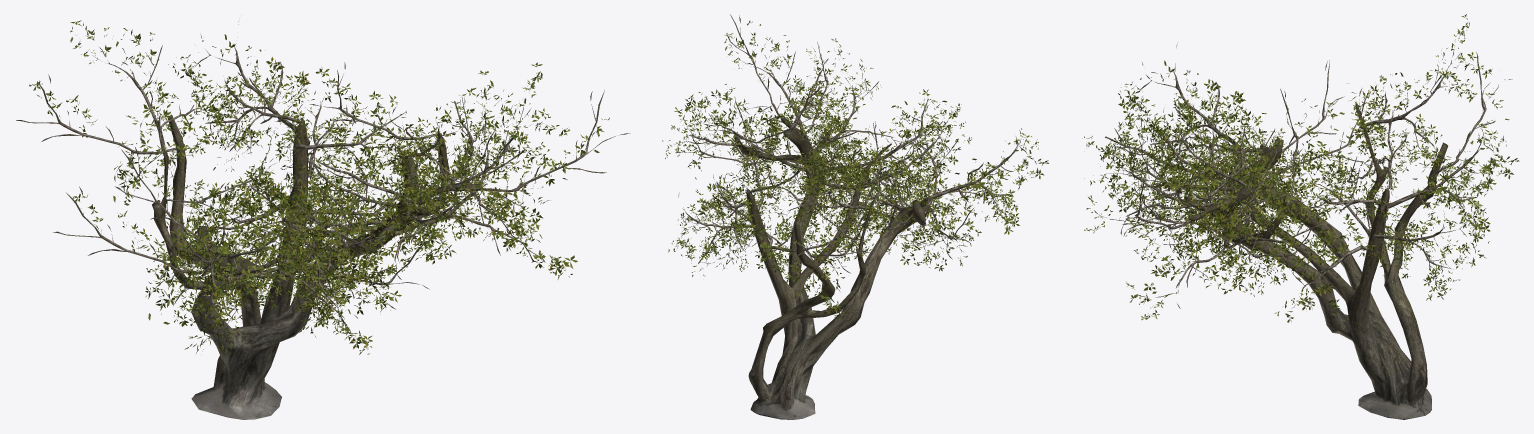
Rendered from tree_b.glb.
3 renders of one model, left to right at view 1: azimuth 30°, elevation 25°; view 2: azimuth 150°, elevation 25°; view 3: azimuth 270°, elevation 25°, orthographic. The views are drawn at different scales.
Parts seen in each view (by area): view 1: island_tree_02_1k(Clone); view 2: island_tree_02_1k(Clone); view 3: island_tree_02_1k(Clone).
Part boxes in pixels (left/top/right/bottom): island_tree_02_1k(Clone): left=16, top=20, right=630, bottom=419; island_tree_02_1k(Clone): left=662, top=14, right=1048, bottom=419; island_tree_02_1k(Clone): left=1082, top=14, right=1519, bottom=419.
Bounding box in the file's own units: 4.21 × 3.41 × 4.07.
Materials: 3 (3 with a texture image).
